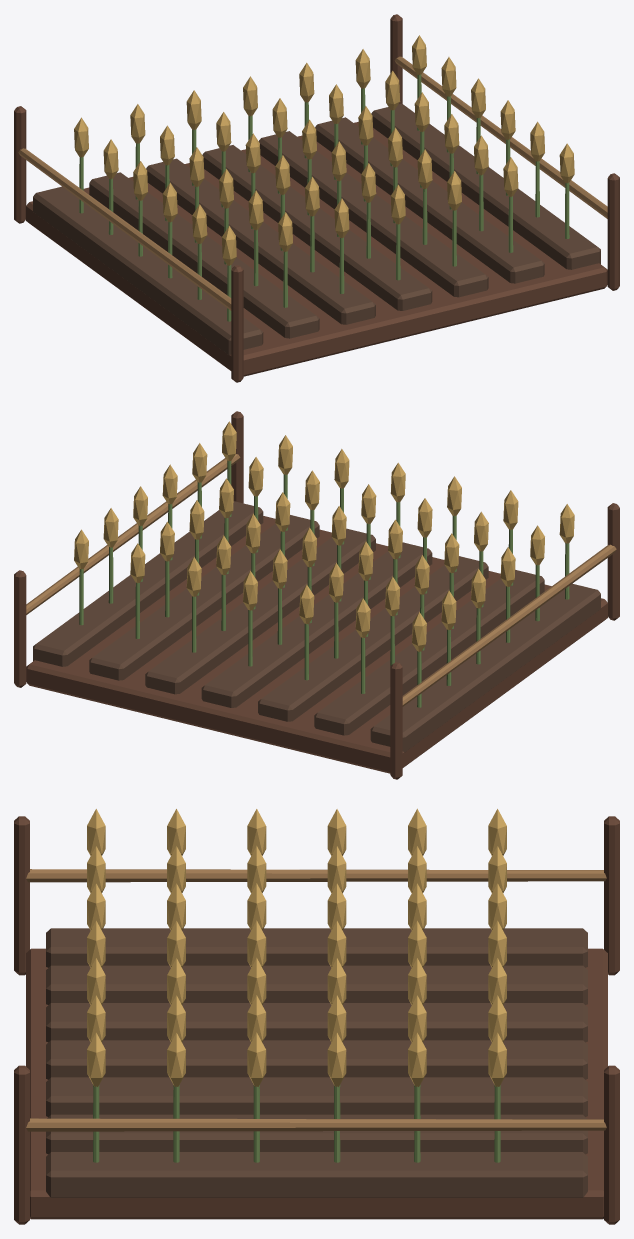
File: farm.glb
3 views of the same model, one above another, from view 1: azimuth 30°, elevation 25°; view 2: azimuth 150°, elevation 25°; view 3: azimuth 270°, elevation 25° (orthographic). The views are drawn at different scales.
Parts seen in each view (by area): view 1: Geometry, CropPlants; view 2: Geometry, CropPlants; view 3: Geometry, CropPlants.
Part boxes in pixels (bbox=[...]): Geometry: bbox=[14, 14, 619, 382]; CropPlants: bbox=[74, 35, 574, 321]; Geometry: bbox=[14, 411, 619, 779]; CropPlants: bbox=[74, 421, 574, 707]; Geometry: bbox=[14, 816, 619, 1224]; CropPlants: bbox=[87, 808, 506, 1162].
Bounding box in the file's own units: 3.02 × 0.98 × 3.02.
